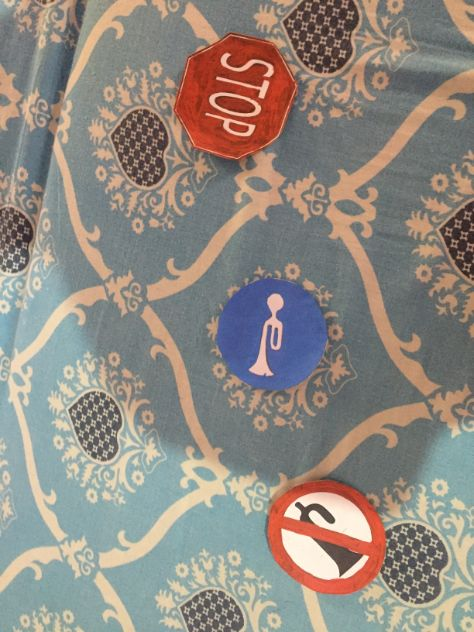blow-horn: (216, 275, 331, 390)
no-horn: (266, 473, 390, 597)
stop: (172, 29, 305, 162)
